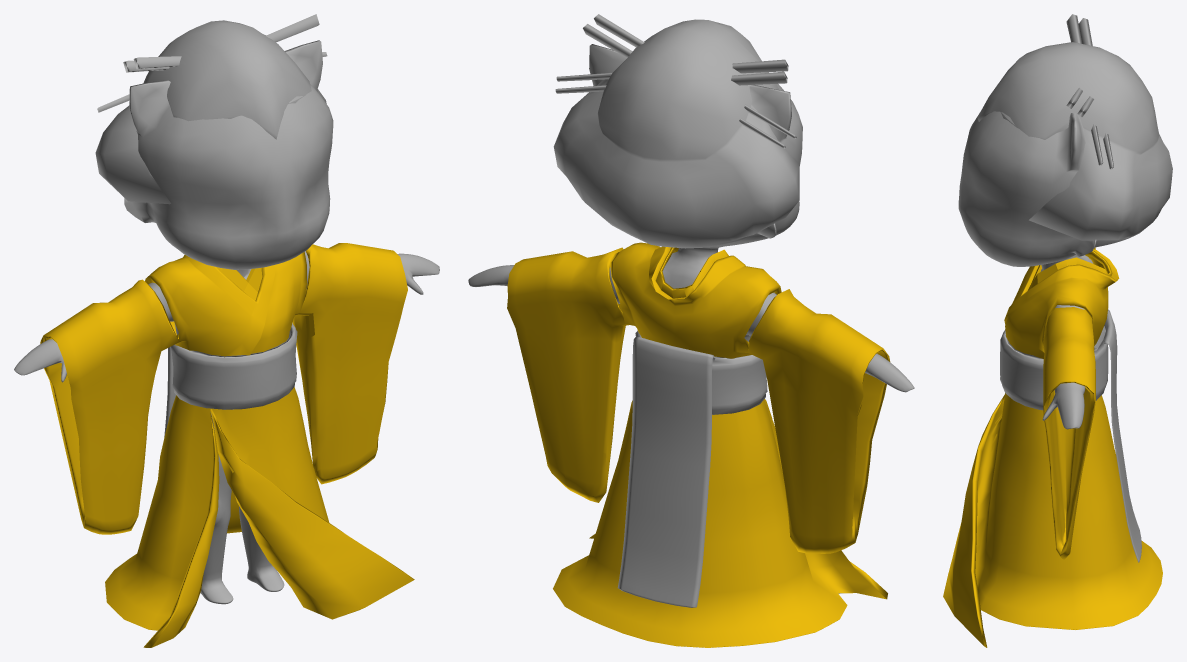
The model's file is Character_Geisha.fbx.
The picture shows the model from 3 angles, left to right: view 1: azimuth 30°, elevation 25°; view 2: azimuth 150°, elevation 25°; view 3: azimuth 270°, elevation 25°; orthographic projection. The views are drawn at different scales.
Visible parts, largest first — view 1: Geisha2; view 2: Geisha2; view 3: Geisha2.
Part boxes in pixels (x1,y1,x2,y2): Geisha2: [14, 14, 439, 647]; Geisha2: [468, 14, 914, 647]; Geisha2: [943, 14, 1172, 647].
Size of the model in its own units: 59.35 by 74.15 by 28.89.
